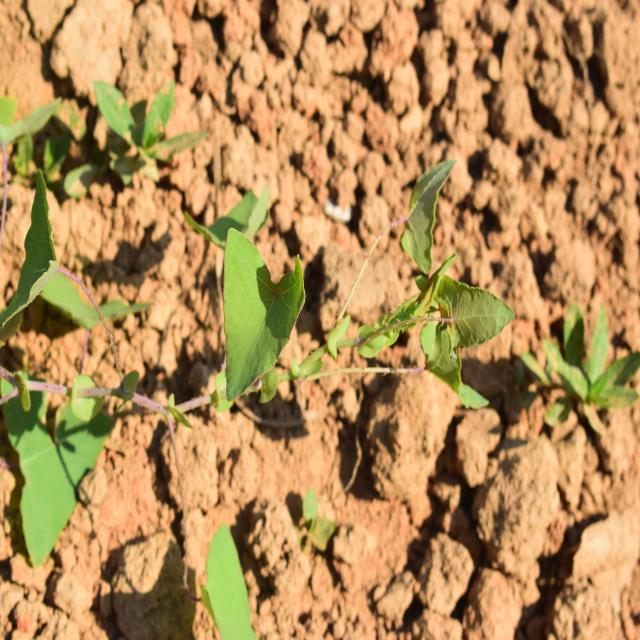Asiatic_Smartweed: (371, 166, 505, 414), (216, 225, 312, 422)
